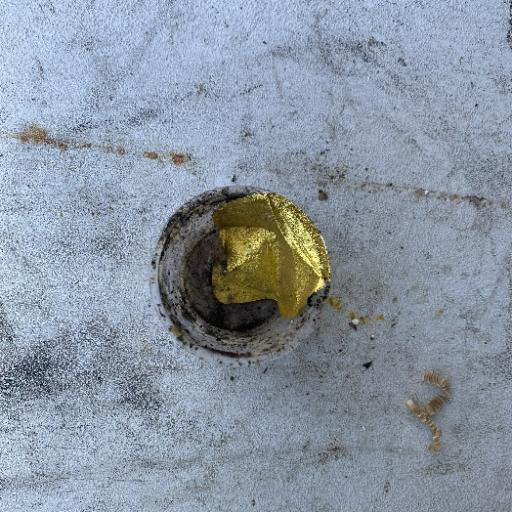Plastic: (207, 190, 331, 320)
